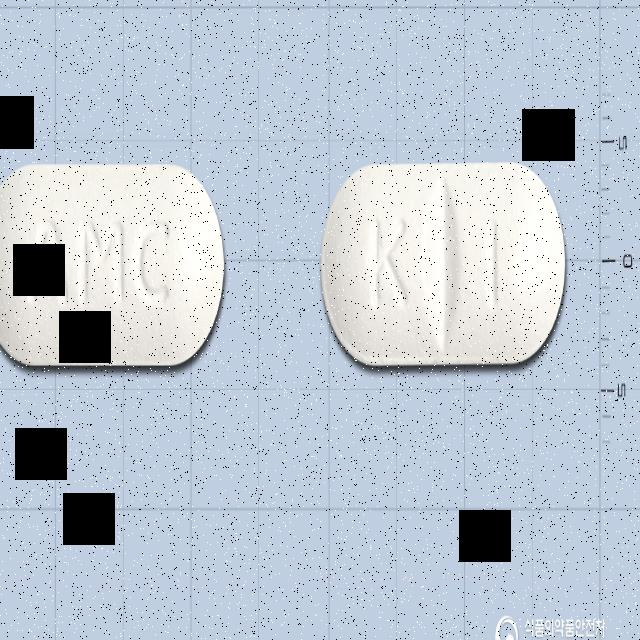Amocla Duo: (320, 162, 566, 370), (0, 159, 226, 375)
